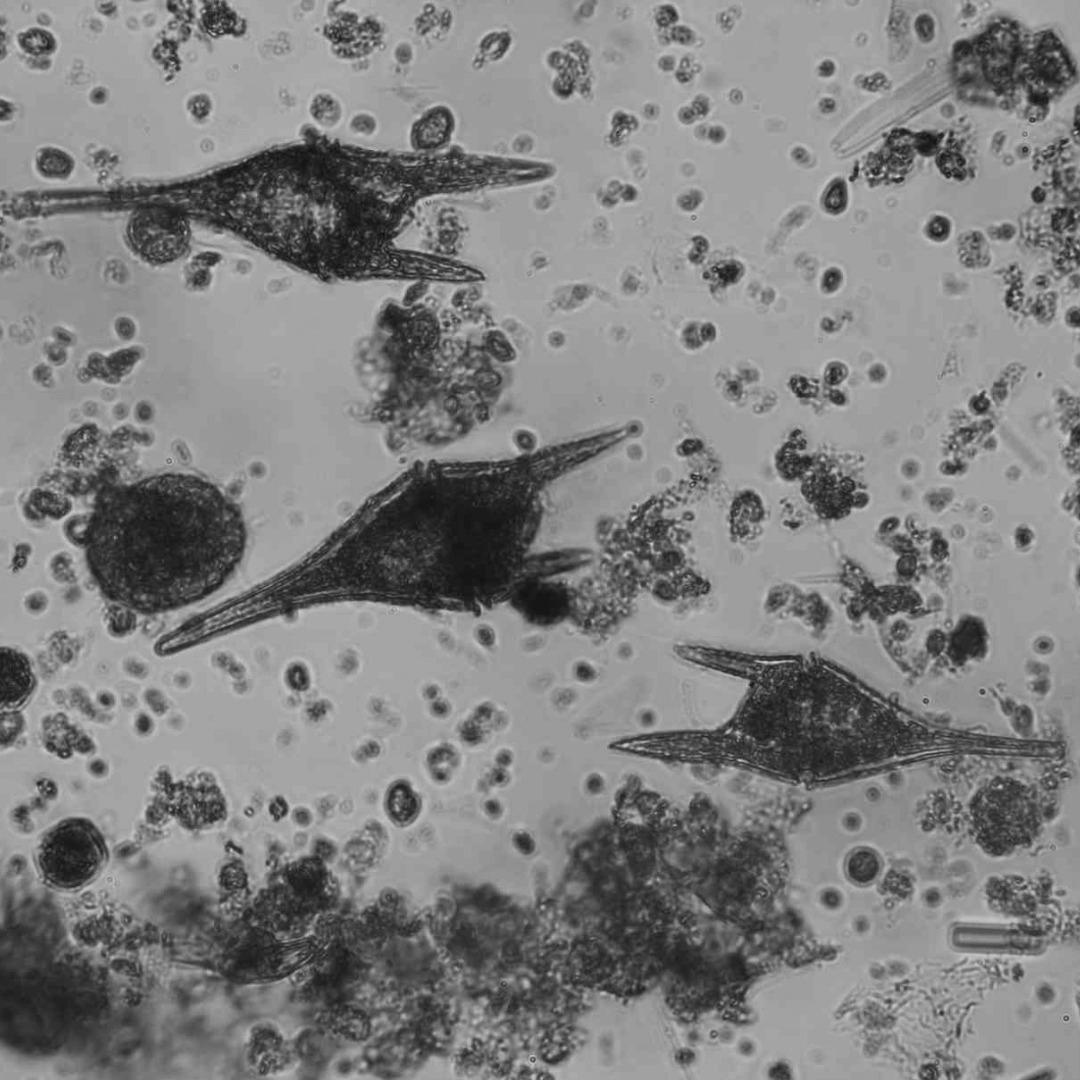ceratium_furca: (153, 424, 639, 656), (5, 140, 559, 284), (608, 640, 1066, 791)
